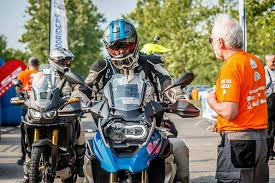helmet: (96, 17, 147, 68), (45, 47, 74, 77)
